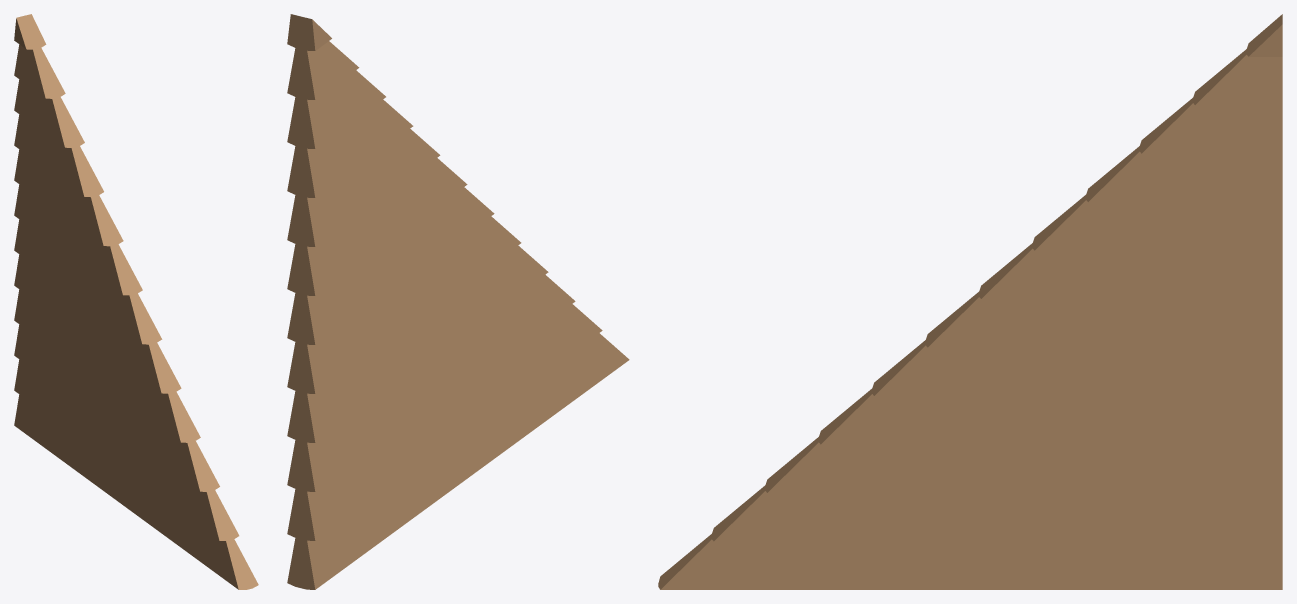
The model's file is Triangle Wall A-col.glb.
The picture shows the model from 3 angles, left to right: view 1: azimuth 30°, elevation 25°; view 2: azimuth 150°, elevation 25°; view 3: azimuth 270°, elevation 25°; orthographic projection. The views are drawn at different scales.
Parts seen in each view (by area): view 1: Triangle Wall A-col.001; view 2: Triangle Wall A-col.001; view 3: Triangle Wall A-col.001.
Part boxes in pixels (<box>): Triangle Wall A-col.001: <box>14,14,258,589</box>; Triangle Wall A-col.001: <box>287,14,629,589</box>; Triangle Wall A-col.001: <box>658,14,1282,589</box>.
Bounding box in the file's own units: 0.165 × 3.21 × 3.21.
